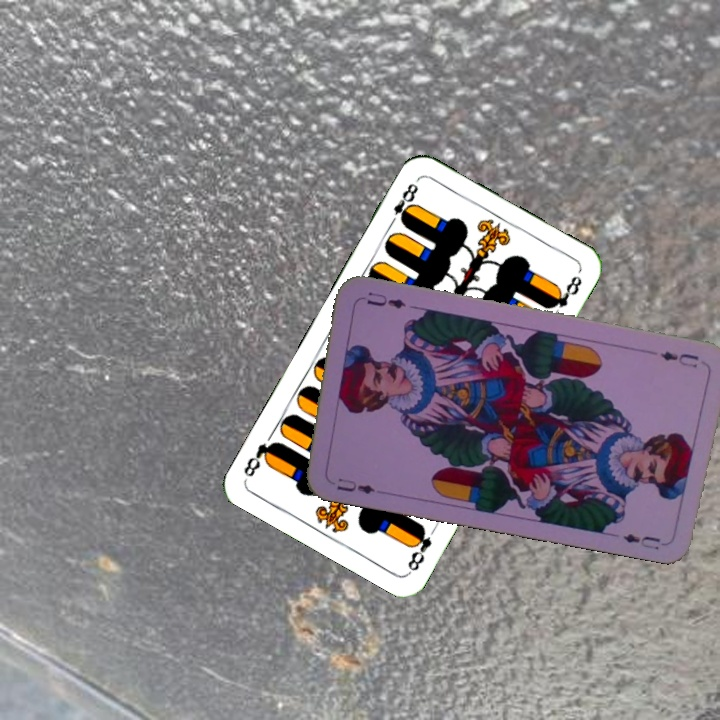E8: (384, 179, 421, 230), (403, 521, 435, 575)
EU: (333, 473, 378, 497), (656, 347, 701, 371)
